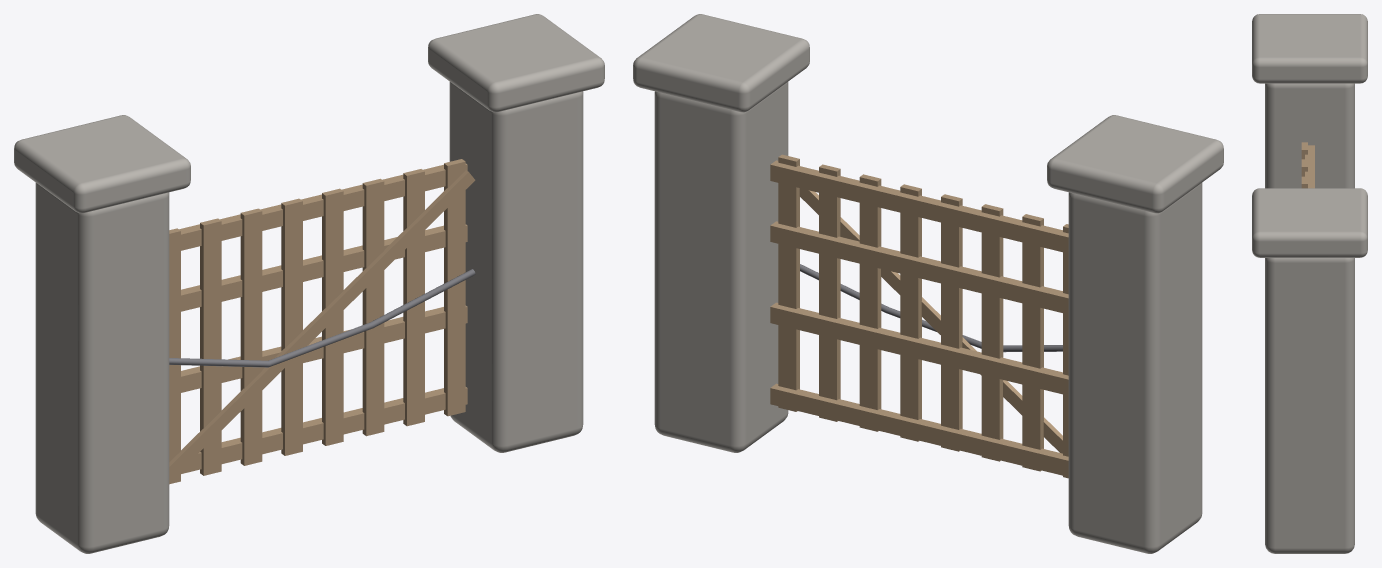
Rendered from gate_old.glb.
The picture shows the model from 3 angles, left to right: view 1: azimuth 30°, elevation 25°; view 2: azimuth 150°, elevation 25°; view 3: azimuth 270°, elevation 25°; orthographic projection. The views are drawn at different scales.
Parts seen in each view (by area): view 1: OldGate; view 2: OldGate; view 3: OldGate.
Boxes of the visible parts, <box> form: OldGate: <box>14,14,604,553</box>; OldGate: <box>633,14,1223,553</box>; OldGate: <box>1252,14,1367,553</box>.
Bounding box in the file's own units: 4.1 × 2.81 × 0.9.
